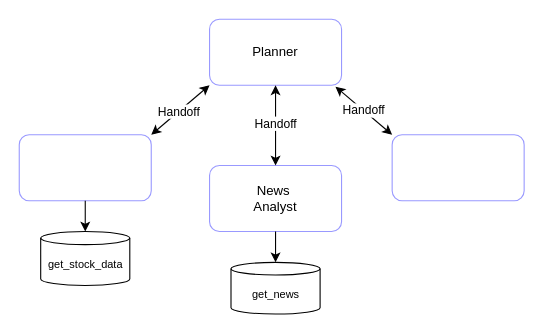
Image size: 543x333. Some labels were removed from this diagram. The box of each missing label's shape, as (x1, y1, x2, y2) in pixels:
Financial Analyst: (18, 134, 151, 201)
Writer: (391, 134, 524, 201)
